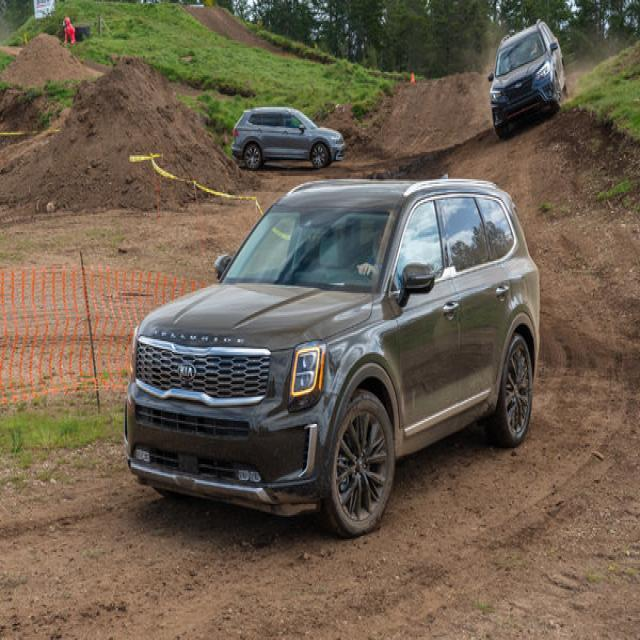sedan: (122, 171, 540, 538), (488, 18, 566, 140), (232, 106, 344, 170)
